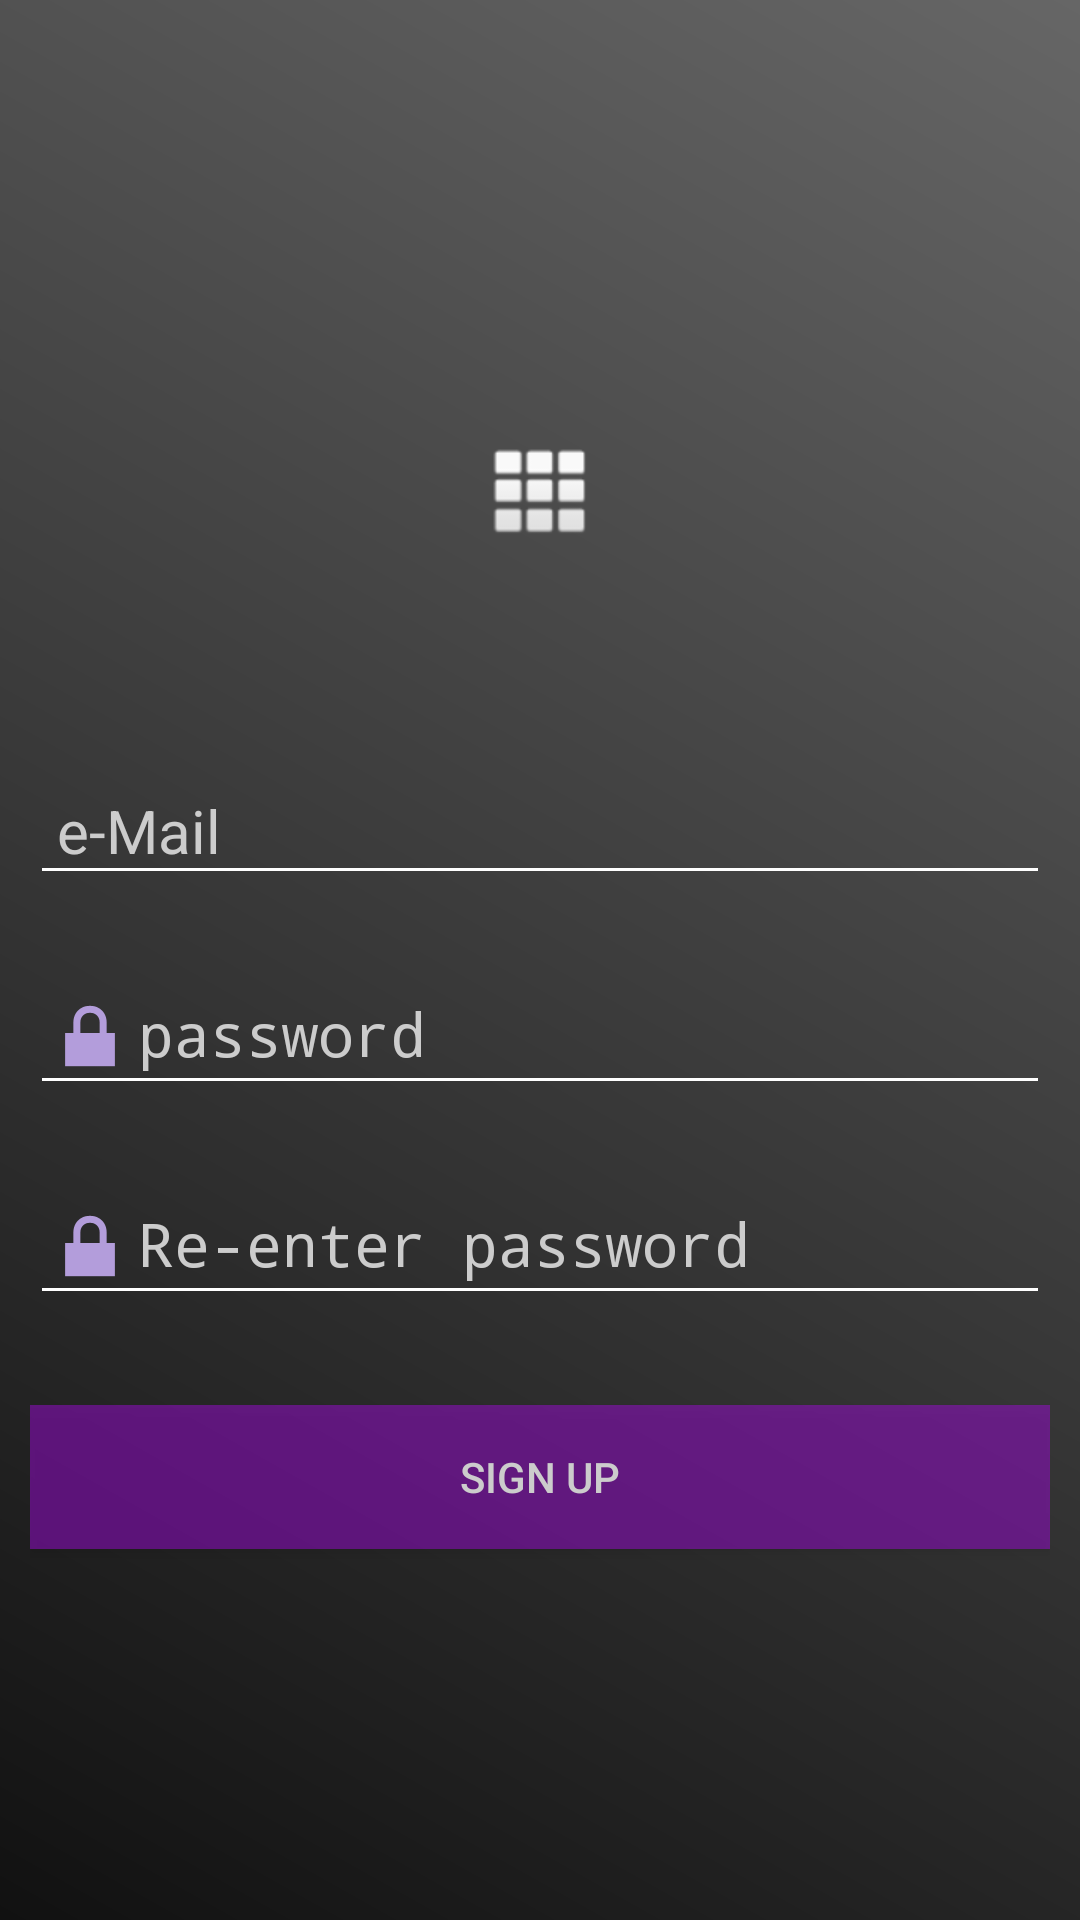

Named icons in this screenshot (1080 x 1920) and their centers, (x,y):
dialer: (539,491)
